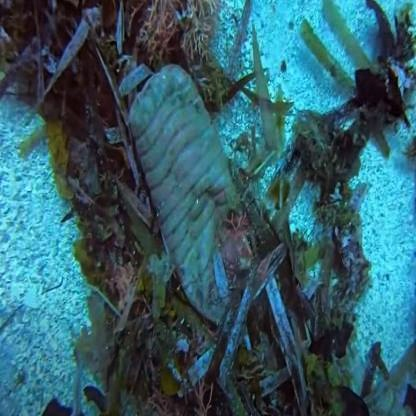pbottle: (114, 71, 262, 344)
